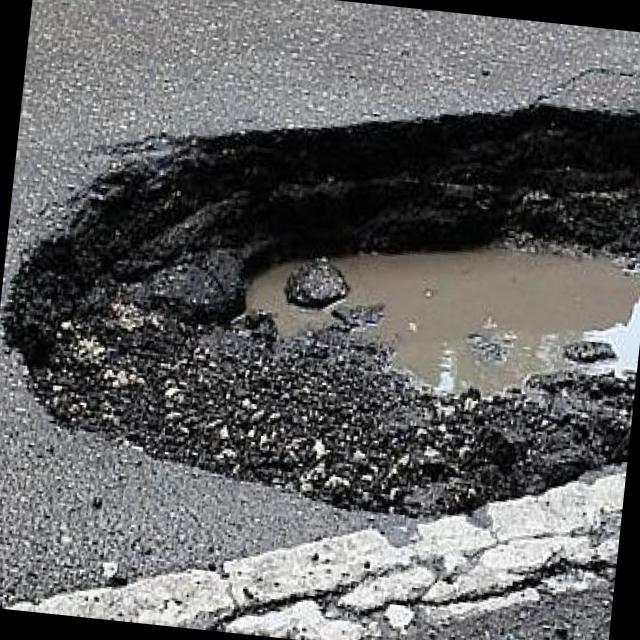Pothole: (6, 102, 640, 514)
